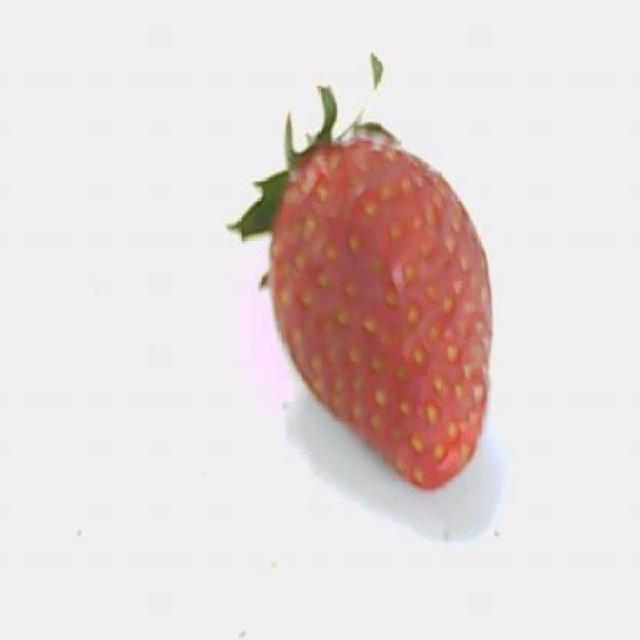strawberry: (229, 86, 492, 489)
